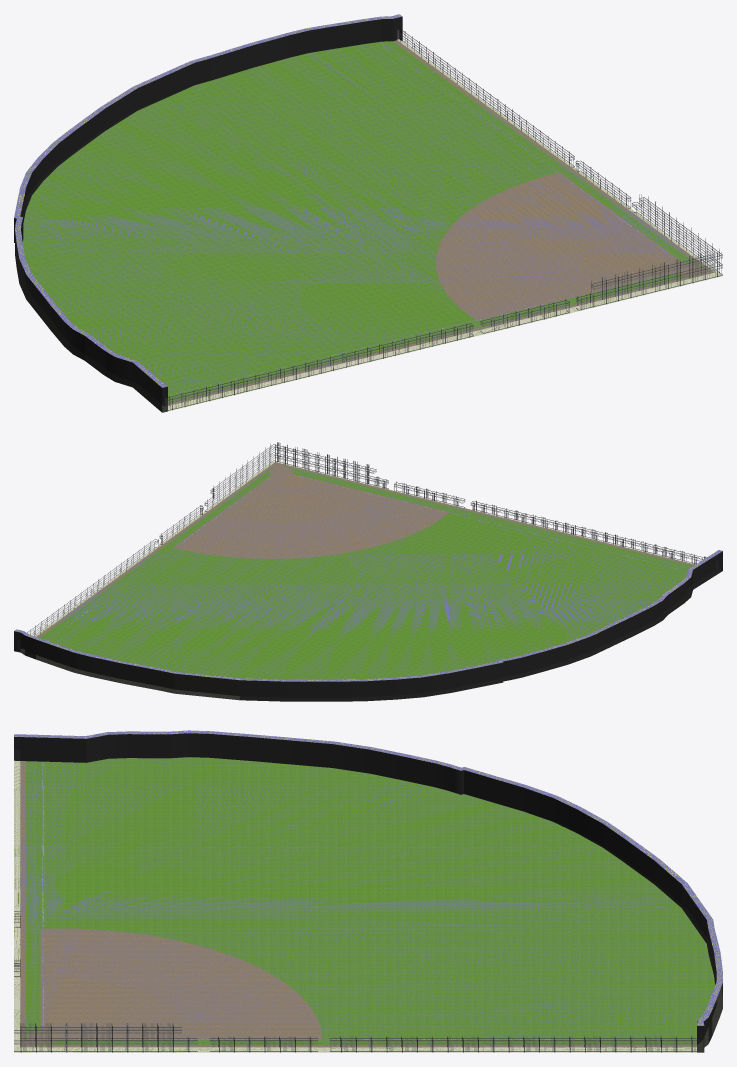
File: Ficke Softball Field.fbx
The picture shows the model from 3 angles, top to bottom: view 1: azimuth 30°, elevation 25°; view 2: azimuth 150°, elevation 25°; view 3: azimuth 270°, elevation 25°; orthographic projection. The views are drawn at different scales.
Visible parts, largest first — view 1: Model; view 2: Model; view 3: Model.
Part boxes in pixels (bbox=[...]): Model: bbox=[14, 14, 722, 412]; Model: bbox=[14, 442, 722, 701]; Model: bbox=[14, 730, 722, 1052].
Size of the model in its own units: 2855 by 120 by 2895.
